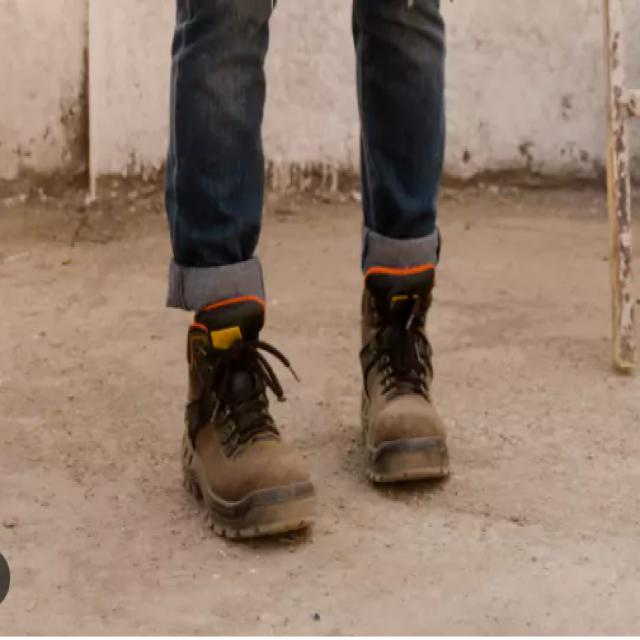shoes: (171, 258, 456, 548)
